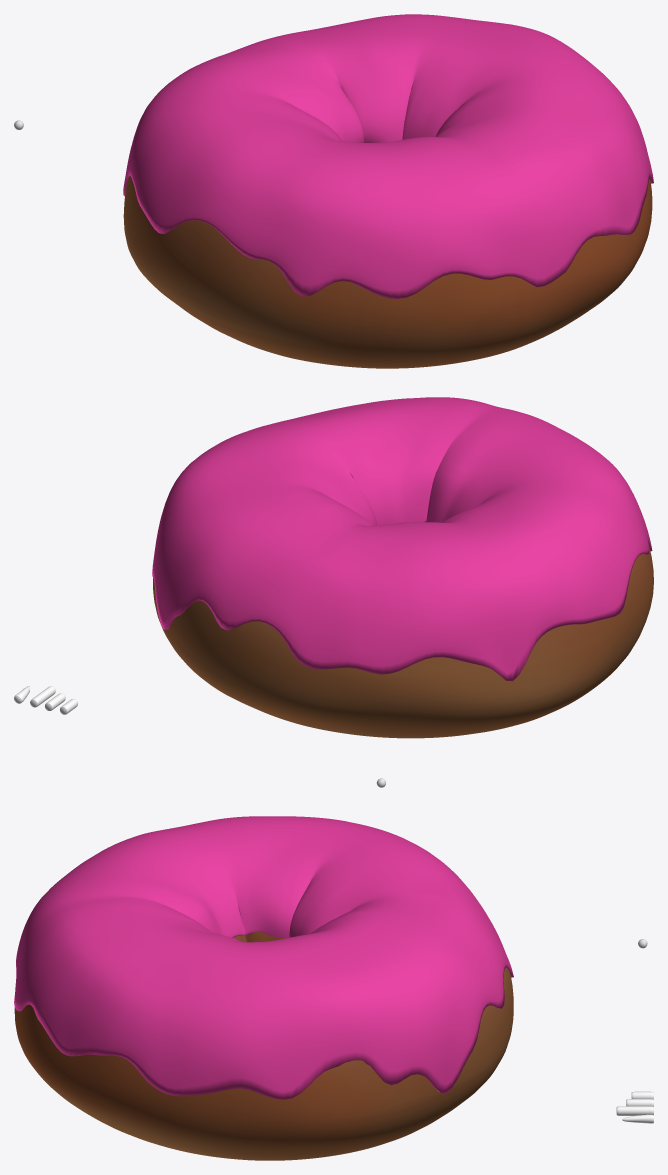
File: doughnut.glb
The picture shows the model from 3 angles, top to bottom: view 1: azimuth 30°, elevation 25°; view 2: azimuth 150°, elevation 25°; view 3: azimuth 270°, elevation 25°; orthographic projection. The views are drawn at different scales.
Parts seen in each view (by area): view 1: BezierCircle.001, BezierCircle; view 2: BezierCircle.001, BezierCircle; view 3: BezierCircle.001, BezierCircle.
Part boxes in pixels (<box>): BezierCircle.001: <box>123,14,653,298</box>; BezierCircle: <box>123,176,652,368</box>; BezierCircle.001: <box>152,397,652,681</box>; BezierCircle: <box>153,543,653,738</box>; BezierCircle.001: <box>14,816,513,1099</box>; BezierCircle: <box>14,932,513,1160</box>.
Size of the model in its own units: 0.2756 by 0.1168 by 0.347.
Materials: 3 (1 with a texture image).
